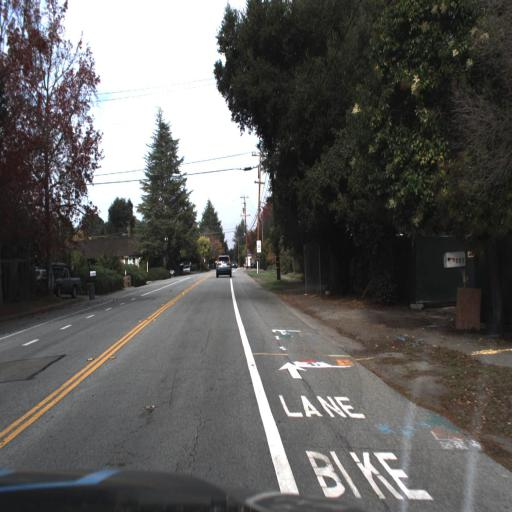car: (48, 265, 82, 297), (214, 251, 235, 280), (180, 260, 193, 280), (243, 251, 252, 271)
